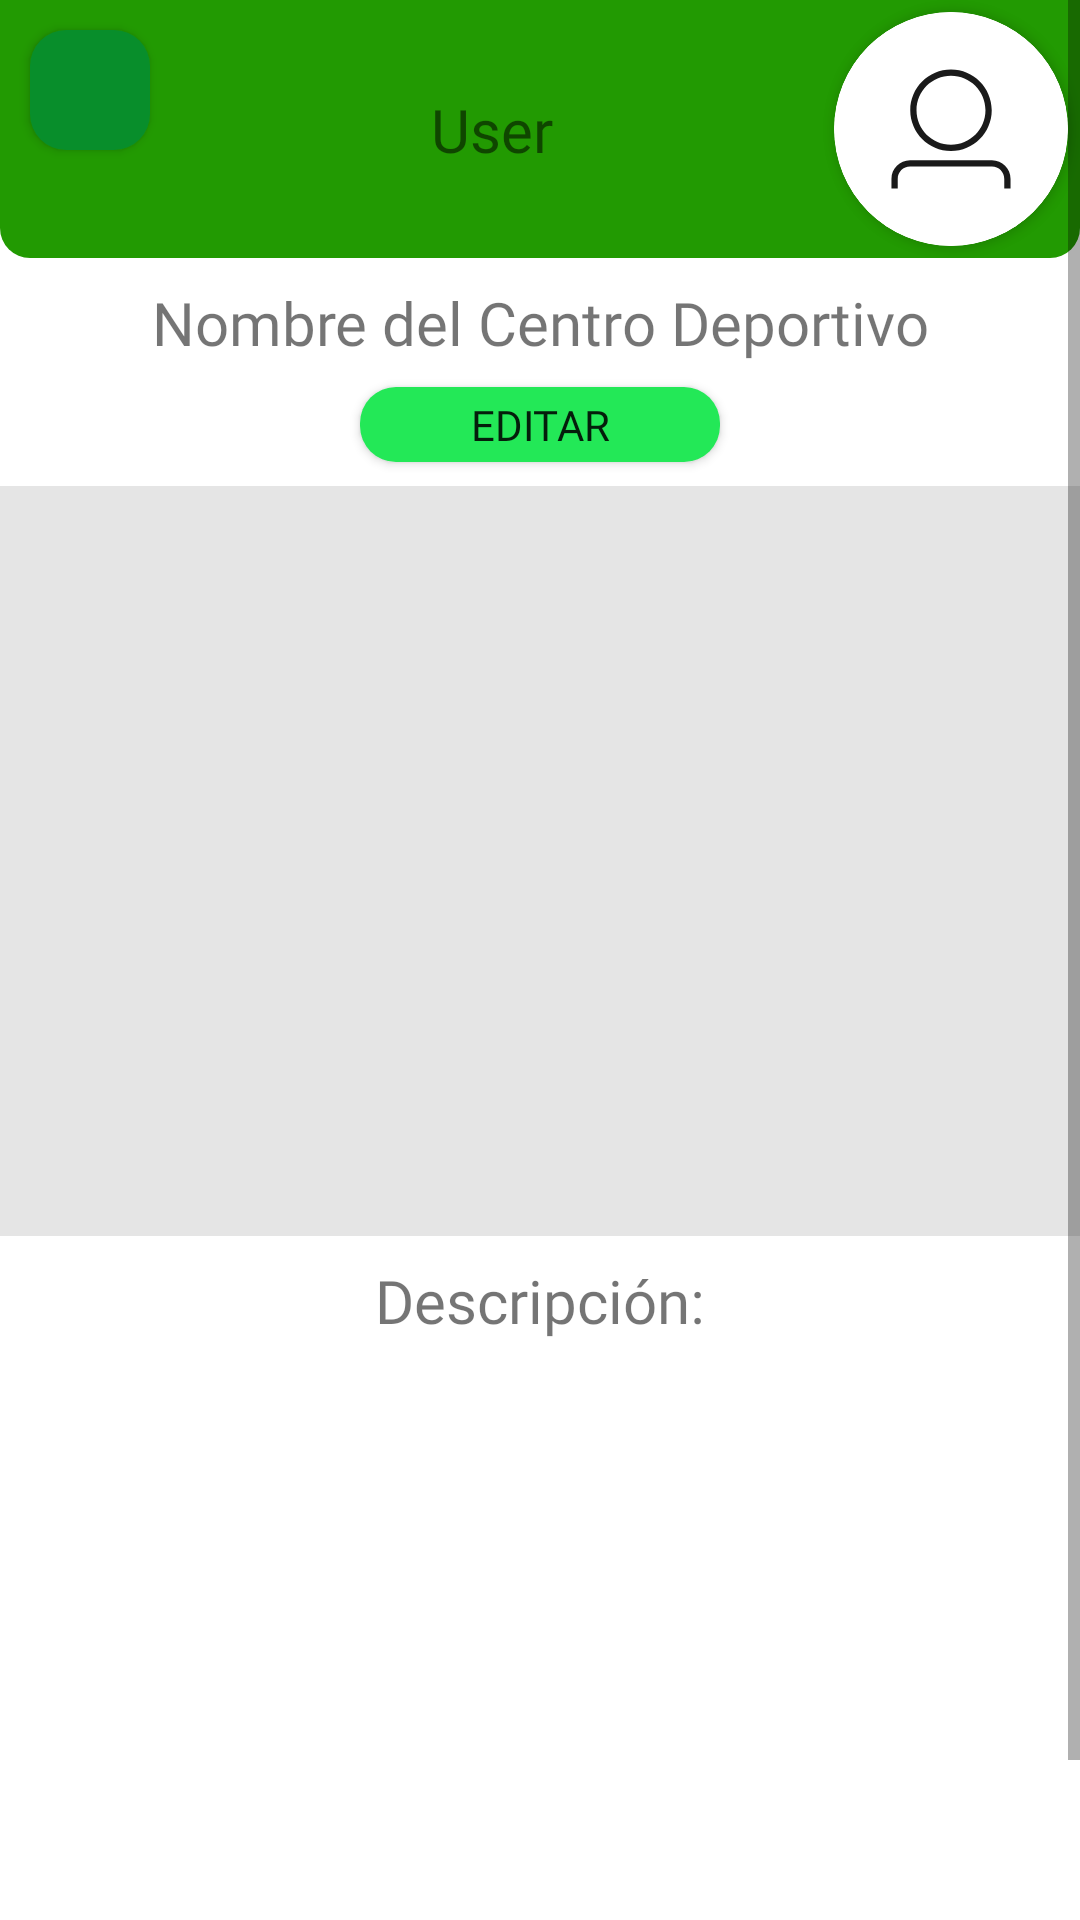

Screen size 1080px x 1920px. Icon name, then its center in pixels as (x=x, y=y):
user: (x=951, y=129)
